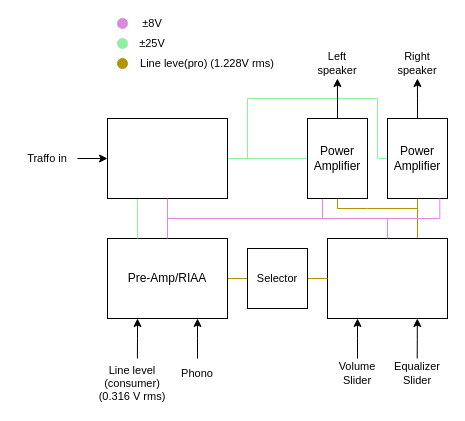
This 465x421 diagram has some shape labels left out. The box of each missing label's shape, as (x1, y1, x2, y2) in pixels:
Equalizer / Volume: (326, 238, 448, 318)
Power supply: (106, 118, 228, 198)
